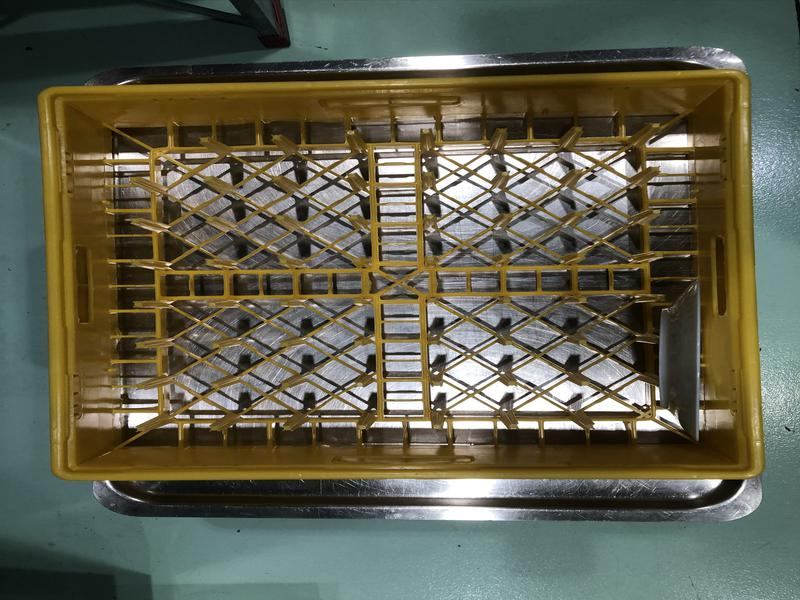Dish: (658, 284, 703, 439)
